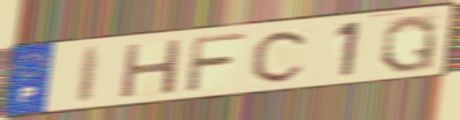1: (333, 19, 365, 80)
C: (248, 27, 313, 85)
F: (182, 31, 250, 95)
H: (117, 36, 186, 101)
I: (74, 43, 106, 105)
Q: (378, 13, 440, 75)
